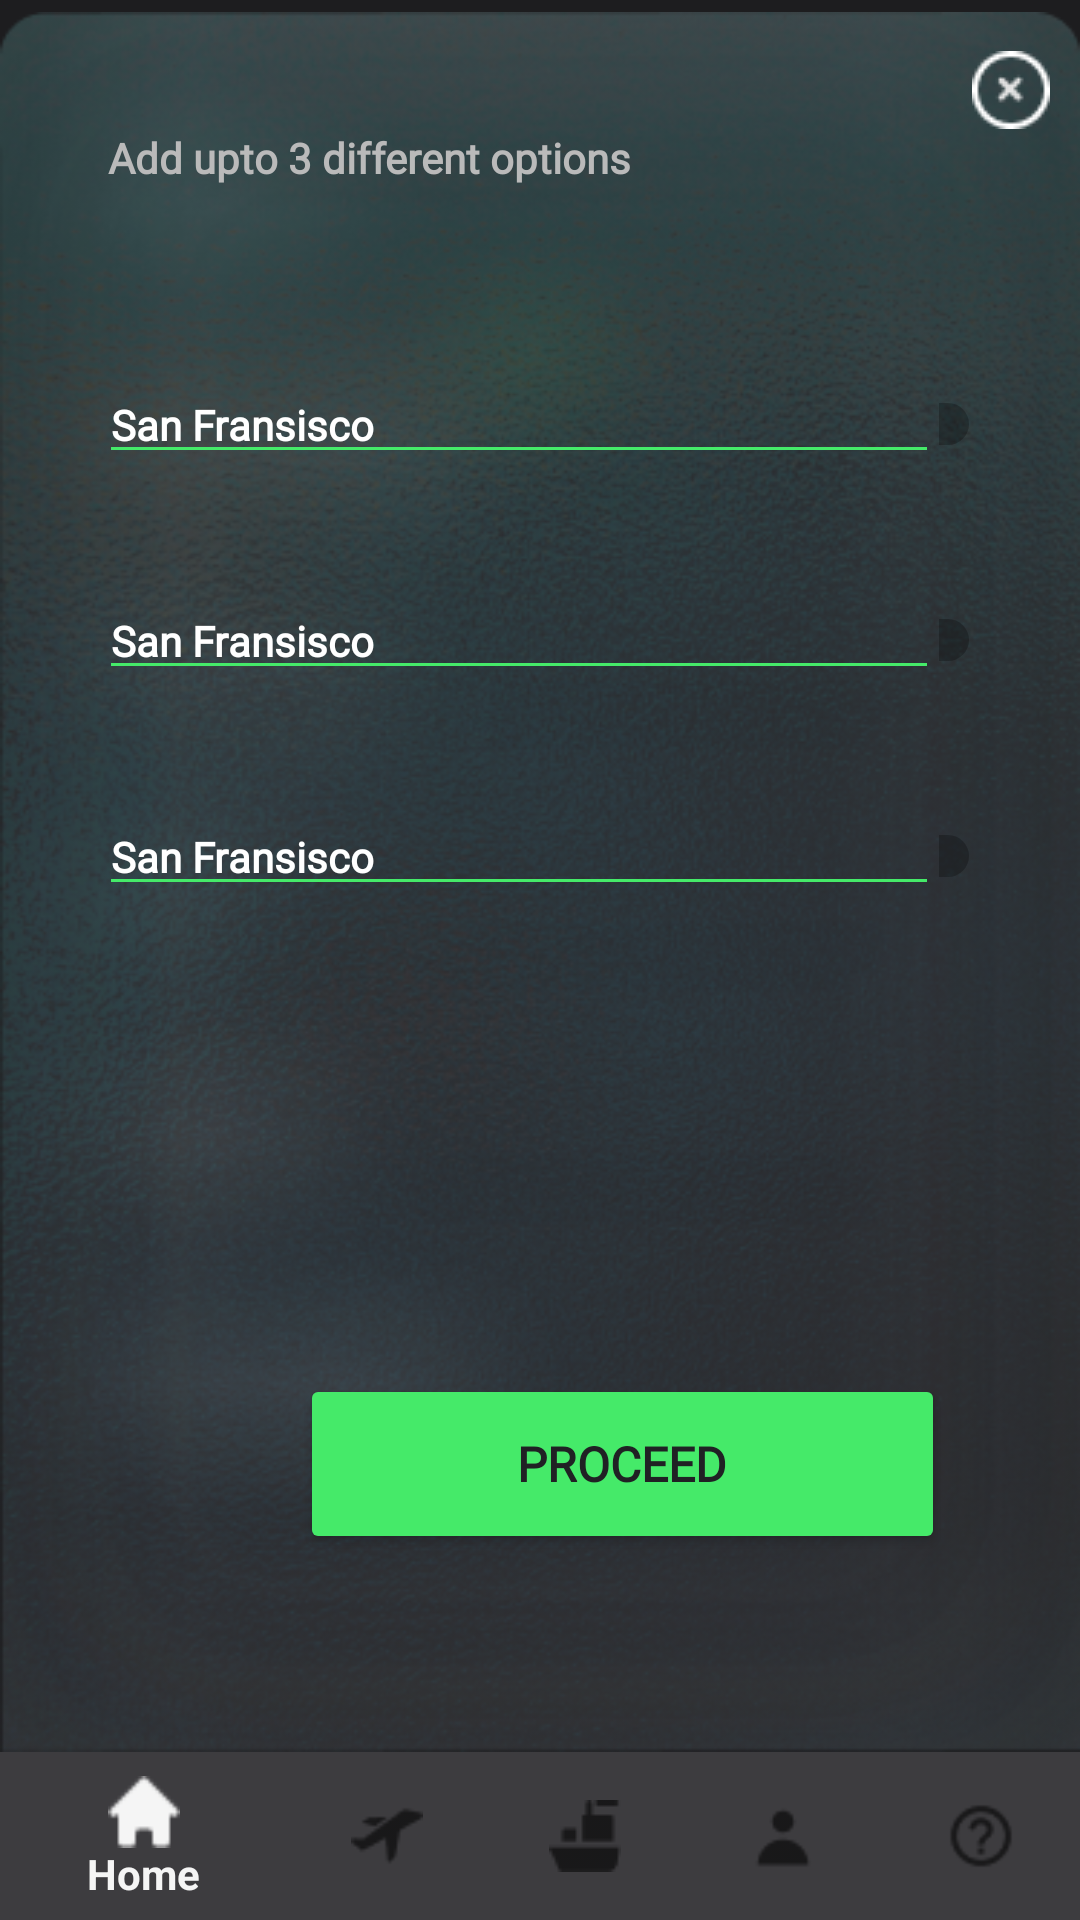

Icon click points for this 1080×1920 phone screenshot, format point (x, y):
cancel: point (1011, 90)
